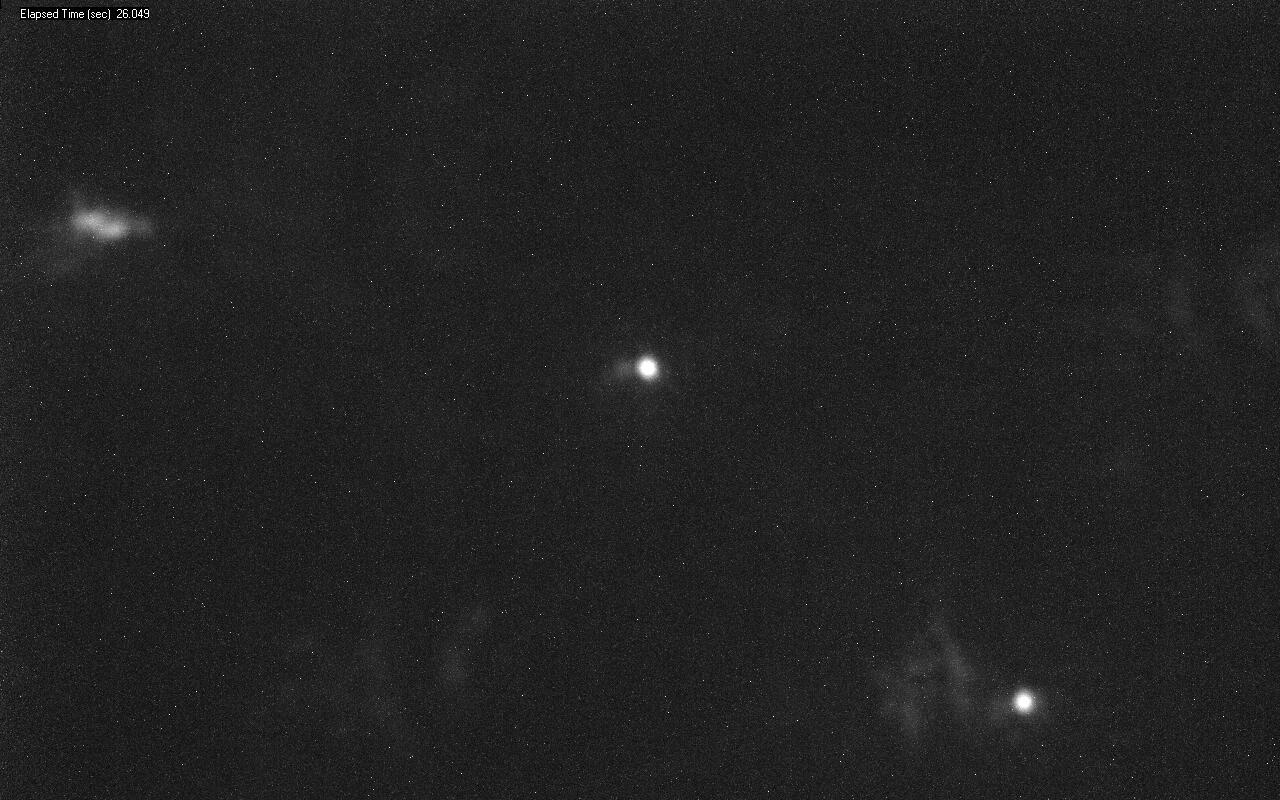Bead: (1011, 689, 1037, 715), (636, 356, 659, 379)
